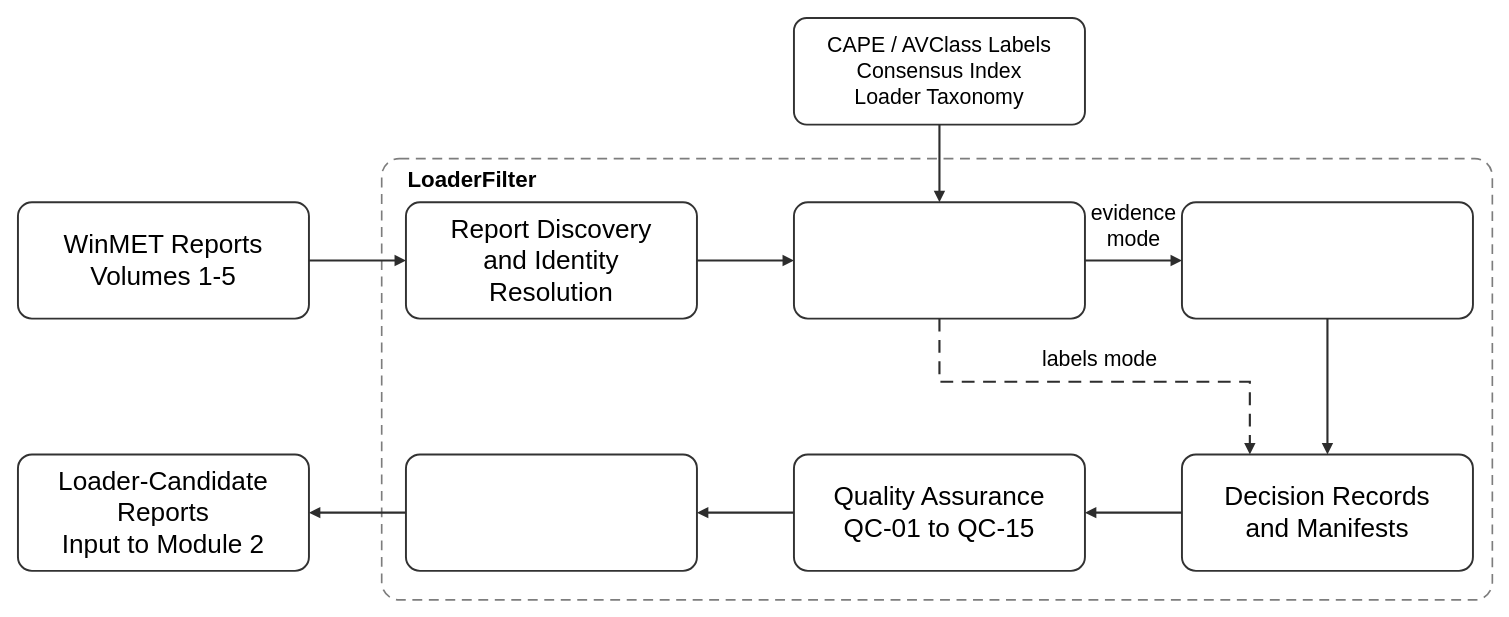
Some shapes in this 1509 by 617 pixel diagram are drawn without their labels. The shapes that lost their labels are listed below. From the top down, each one's centre as x and y in pixels, then its label:
At pixel 938 260: "Label Reconciliation and Candidate Inventory".
At pixel 1326 260: "Evidence Extraction".
At pixel 550 512: "Report Export selection: candidates".
